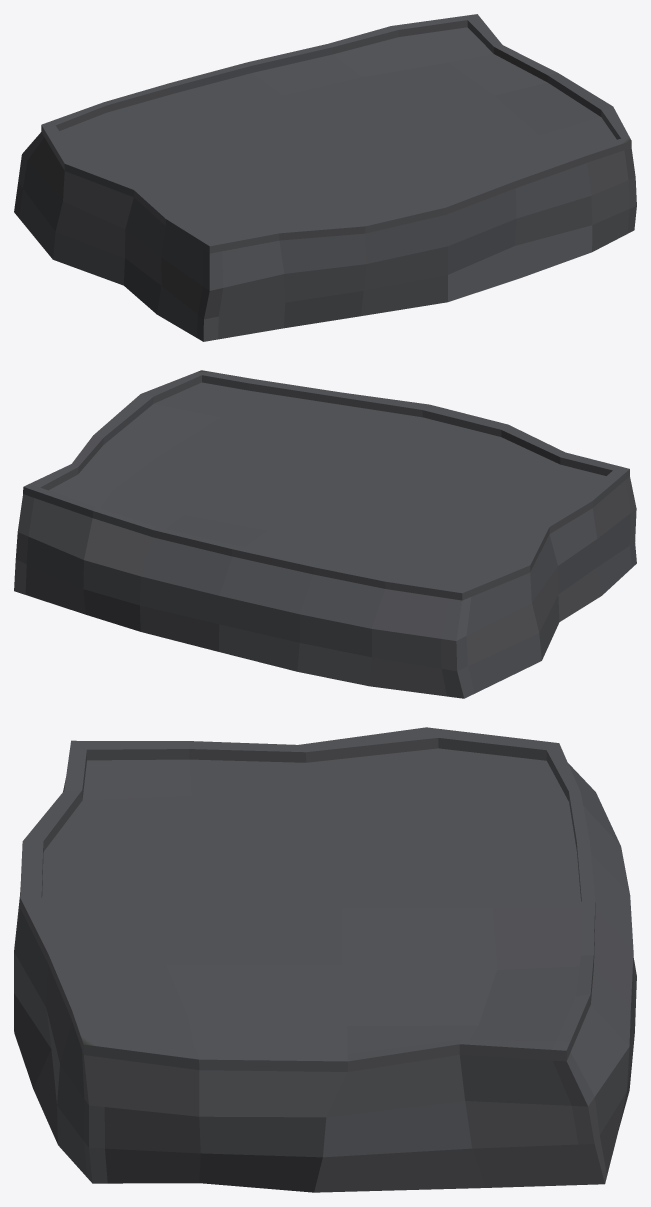
File: Slab4.glb
The picture shows the model from 3 angles, top to bottom: view 1: azimuth 30°, elevation 25°; view 2: azimuth 150°, elevation 25°; view 3: azimuth 270°, elevation 25°; orthographic projection. The views are drawn at different scales.
Visible parts, largest first — view 1: Slab4; view 2: Slab4; view 3: Slab4.
Boxes of the visible parts, x1,y1,x2,y2 form: Slab4: (14, 14, 636, 341); Slab4: (14, 370, 636, 698); Slab4: (14, 727, 636, 1192).
Size of the model in its own units: 2.71 by 0.5371 by 2.07.
Materials: 1 (1 with a texture image).
